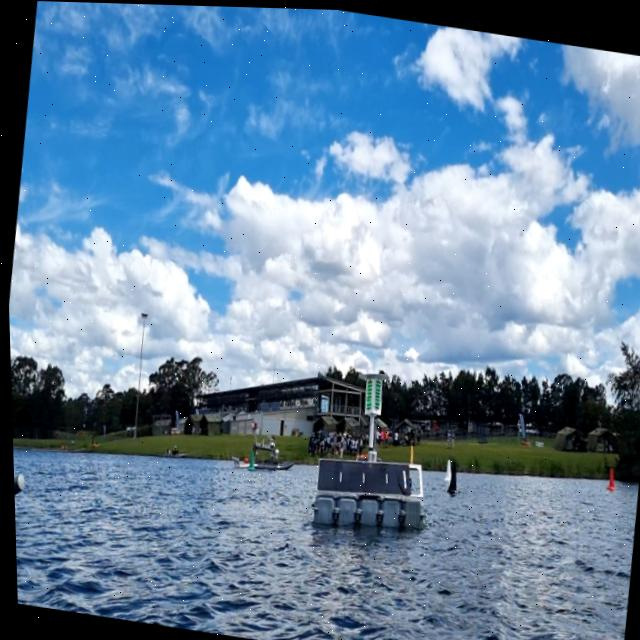led: (369, 376, 381, 409), (361, 376, 372, 407)
